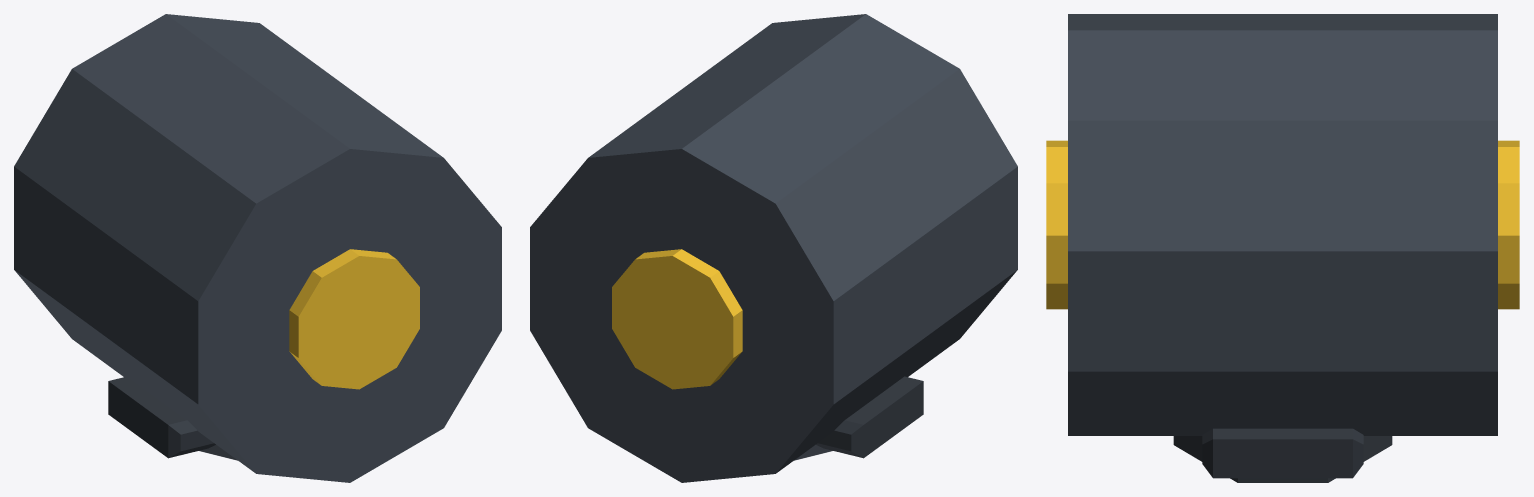
File: hopper_drum.glb
3 views of the same model, side by side, from view 1: azimuth 30°, elevation 25°; view 2: azimuth 150°, elevation 25°; view 3: azimuth 270°, elevation 25° (orthographic). The views are drawn at different scales.
Visible parts, largest first — view 1: hopper_drum; view 2: hopper_drum; view 3: hopper_drum.
Boxes of the visible parts, left/top/right/bottom form: hopper_drum: left=14, top=14, right=501, bottom=482; hopper_drum: left=530, top=14, right=1017, bottom=482; hopper_drum: left=1046, top=14, right=1519, bottom=482.
Size of the model in its own units: 0.0761 by 0.086 by 0.088.
